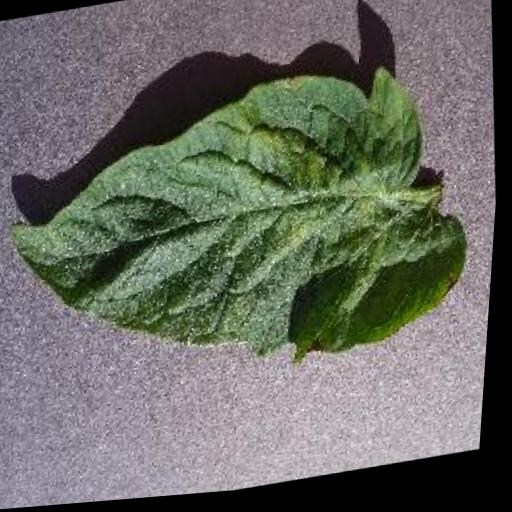Spider Mites: (0, 53, 488, 414)
